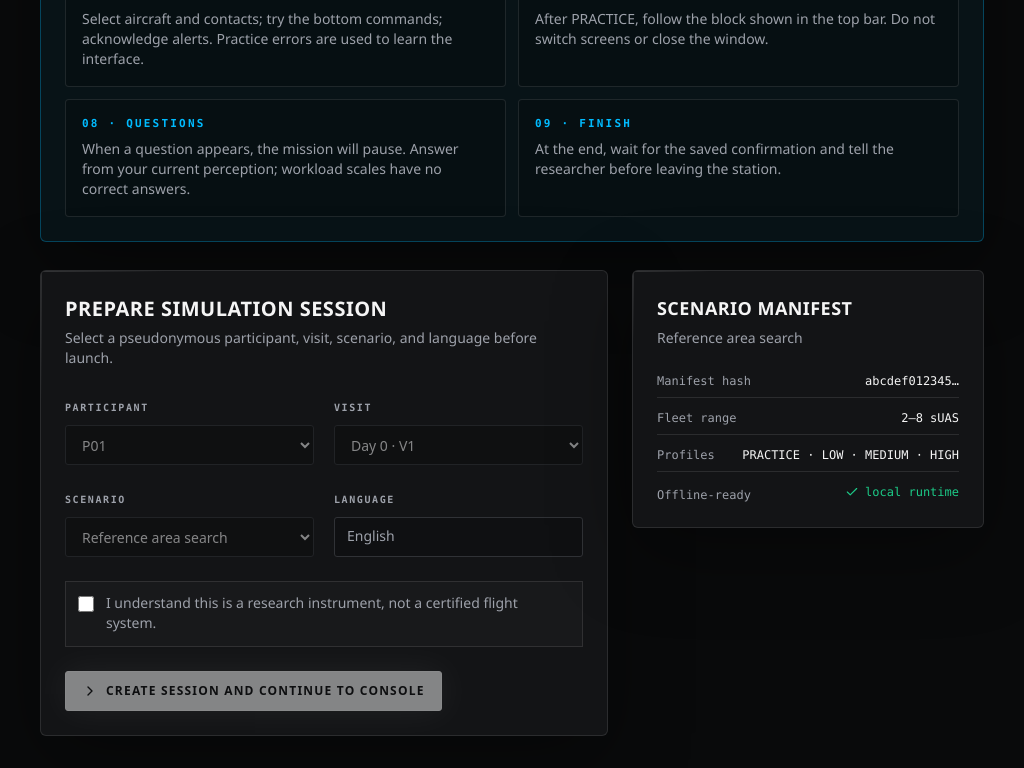
Scenario: MissionSetupForm › keeps assigned participant visit scenario fixed and requires acknowledgement
(page scrolled)
Check: the dropdown labelled "Participant" shows "P01", box left=65, top=425, right=314, bottom=465
Check: the dropdown labelled "Participant" is disabled, box left=65, top=425, right=314, bottom=465
Click the checkbox labelled "research instrument" at (86, 604), box left=78, top=596, right=94, bottom=612
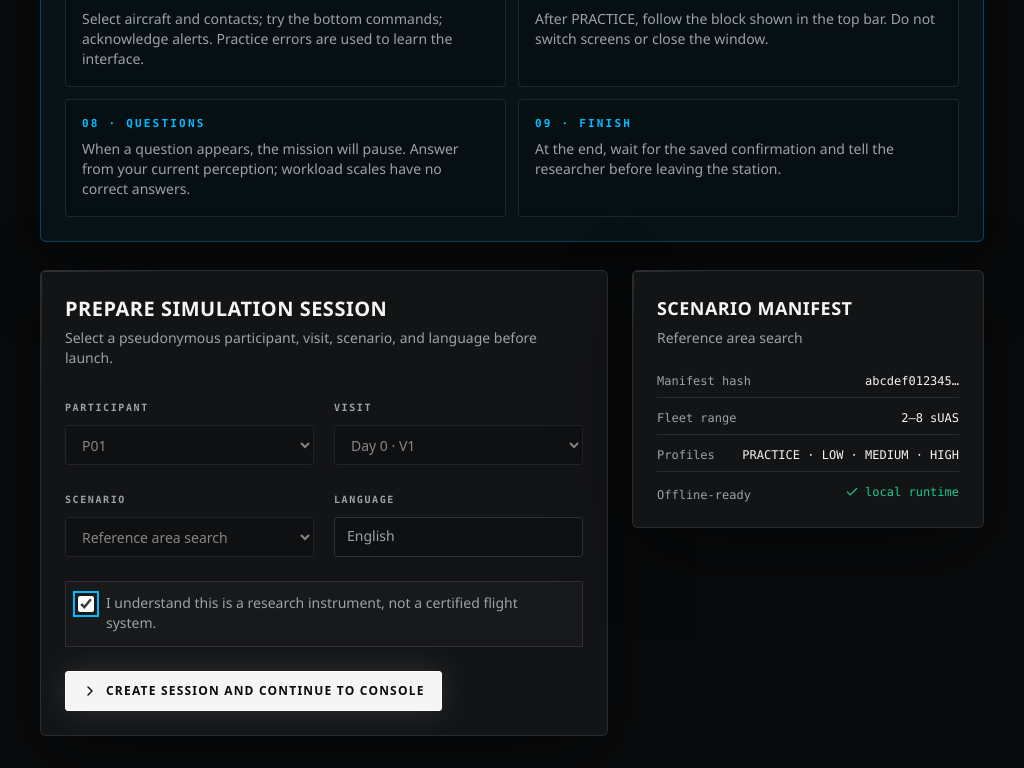
Check: the button with aria-label "prepare session" is enabled, box left=65, top=671, right=442, bottom=711
